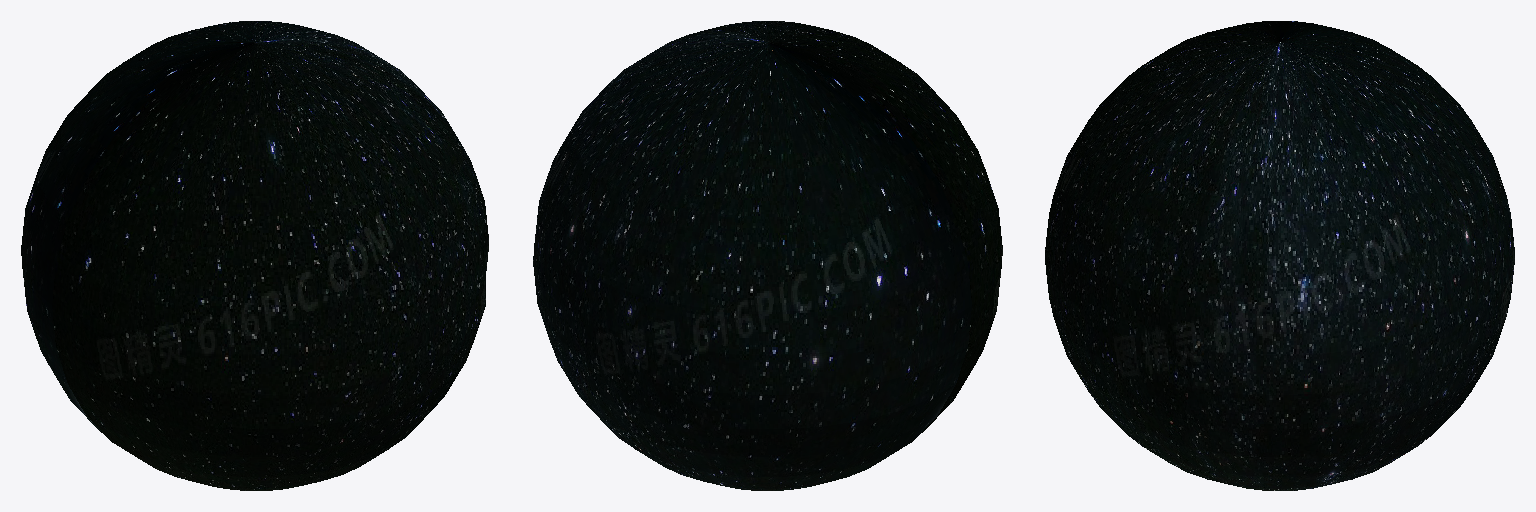
The picture shows the model from 3 angles: view 1: azimuth 30°, elevation 25°; view 2: azimuth 150°, elevation 25°; view 3: azimuth 270°, elevation 25°; orthographic projection.
Visible parts, largest first — view 1: 球体; view 2: 球体; view 3: 球体.
Part boxes in pixels (bbox=[...]): 球体: bbox=[21, 21, 488, 490]; 球体: bbox=[533, 21, 1002, 490]; 球体: bbox=[1045, 21, 1514, 490].
Size of the model in its own units: 2 by 2 by 2.
Materials: 1 (1 with a texture image).